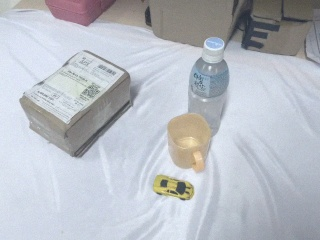bottle: (187, 38, 231, 135)
box: (19, 49, 133, 158), (145, 1, 249, 48), (240, 1, 314, 56)
cup: (167, 112, 213, 172)
toy_car: (153, 175, 195, 200)
